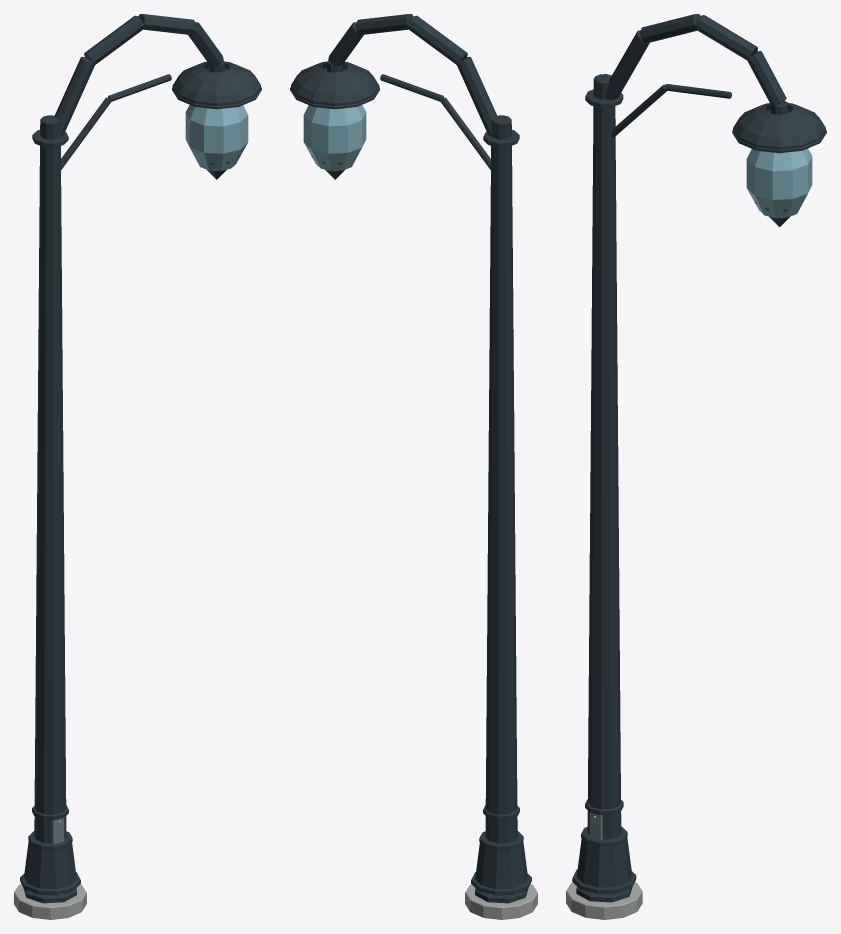
The model's file is b18_historic_teardrop_streetlight.glb.
3 views of the same model, side by side, from view 1: azimuth 30°, elevation 25°; view 2: azimuth 150°, elevation 25°; view 3: azimuth 330°, elevation 25° (orthographic). The views are drawn at different scales.
Visible parts, largest first — view 1: b18_historic_teardrop_streetlight; view 2: b18_historic_teardrop_streetlight; view 3: b18_historic_teardrop_streetlight.
Part boxes in pixels (x1,y1,x2,y2): b18_historic_teardrop_streetlight: [14, 14, 261, 919]; b18_historic_teardrop_streetlight: [290, 14, 537, 919]; b18_historic_teardrop_streetlight: [566, 14, 826, 919].
Size of the model in its own units: 1.74 by 6.08 by 0.5712.
